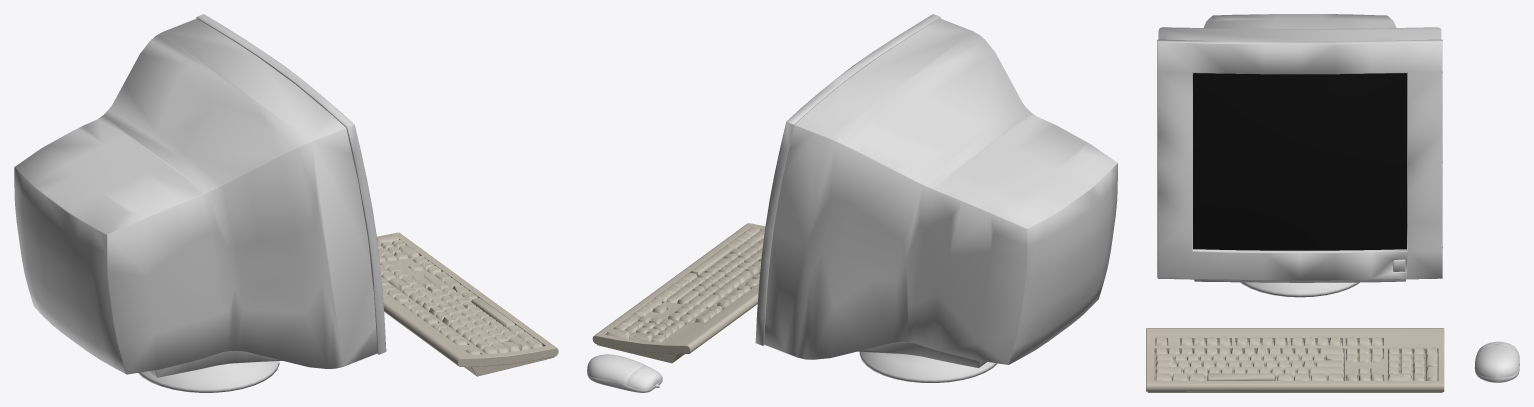
The model's file is monitor.glb.
3 renders of one model, left to right at view 1: azimuth 30°, elevation 25°; view 2: azimuth 150°, elevation 25°; view 3: azimuth 270°, elevation 25°, orthographic. The views are drawn at different scales.
Parts seen in each view (by area): view 1: Keyboard; view 2: Keyboard; view 3: Keyboard.
Boxes of the visible parts, x1,y1,x2,y2 form: Keyboard: (14,14,558,392); Keyboard: (587,14,1117,392); Keyboard: (1146,14,1519,392).
Bounding box in the file's own units: 3.77 × 2.36 × 3.04.
